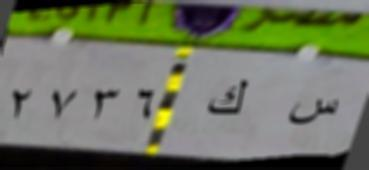2: (4, 78, 39, 124)
3: (91, 80, 124, 129)
6: (130, 86, 163, 121)
7: (48, 84, 80, 127)
kaaf: (206, 73, 258, 121)
seen: (285, 92, 342, 134)
